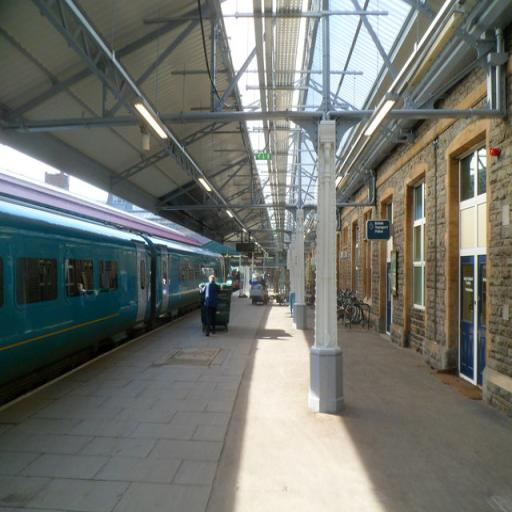platform_edge: (6, 309, 178, 431)
